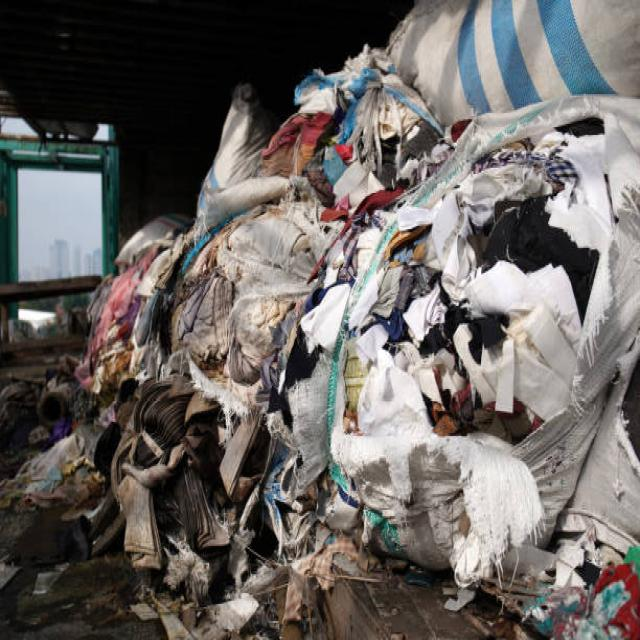trash: (105, 215, 619, 623)
